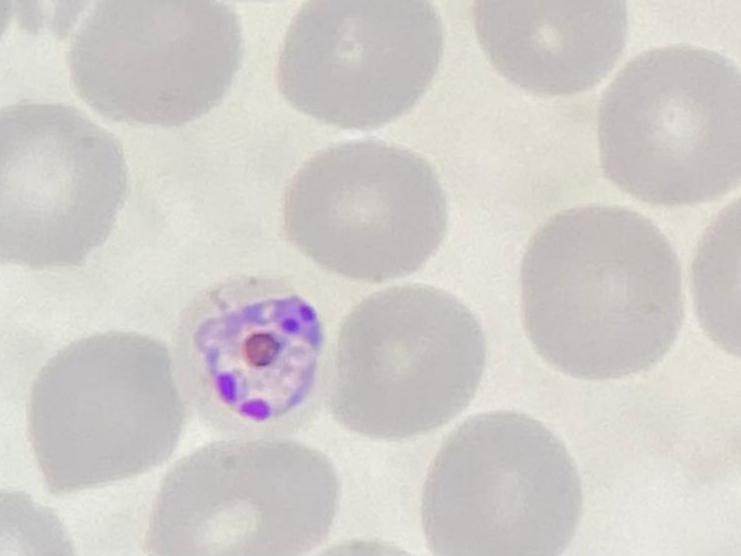Infected: (177, 279, 335, 445)
Uninfected: (517, 208, 680, 378), (33, 332, 182, 499), (277, 138, 447, 282), (601, 42, 741, 204), (427, 403, 575, 556), (67, 0, 239, 131), (330, 292, 484, 438), (147, 442, 338, 556), (0, 103, 123, 272), (270, 0, 443, 120), (471, 0, 630, 96)
